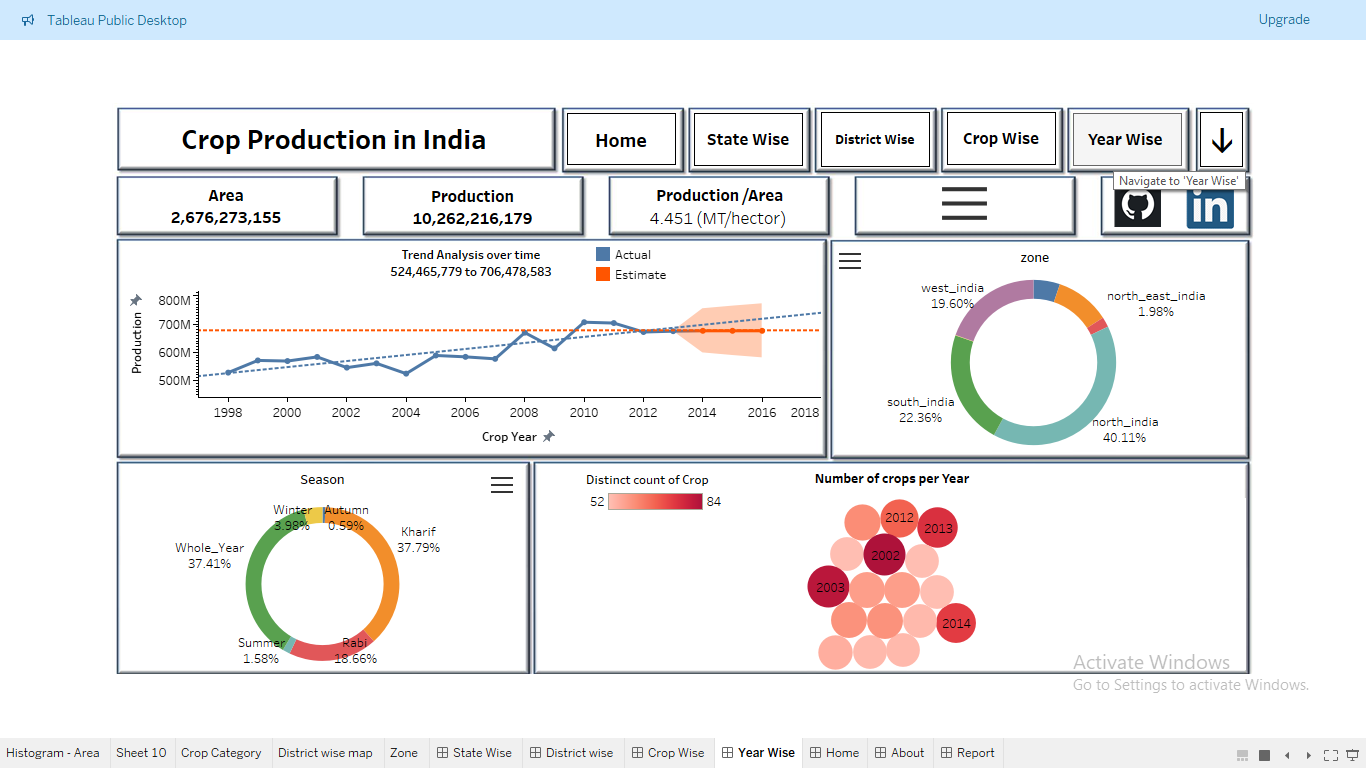

What the dashboard file says about the page in this screenshot:
{"tool":"tableau","page":{"name":"Year Wise","canvas":[1150,600],"ordinal":6},"visuals":[{"type":"image","param":"Image/CPII 5.jpg","box":[0,0,1150,600]},{"type":"text","box":[13,23,426,52]},{"type":"dashboard-object","box":[713,23,109,55]},{"type":"dashboard-object","box":[839,23,109,53]},{"type":"dashboard-object","box":[1092,23,43,55]},{"type":"dashboard-object","box":[459,24,109,52]},{"type":"dashboard-object","box":[586,24,109,53]},{"type":"dashboard-object","box":[965,24,109,53]},{"type":"dashboard-object","box":[979,83,159,52]},{"type":"dashboard-object","box":[751,90,210,49]},{"type":"image","param":"Image/linkedin.png","box":[1067,90,70,50]},{"type":"worksheet","title":"KPI","mark":"Automatic","box":[13,91,210,49]},{"type":"worksheet","title":" Production /Area","mark":"Automatic","box":[505,91,210,49]},{"type":"image","param":"Image/github-6980894_1920.png","box":[1004,91,51,47]},{"type":"worksheet","title":"KPI ","mark":"Automatic","box":[259,92,211,46]},{"type":"dashboard-object","box":[979,135,159,52]},{"type":"filter","title":"YW- Pie chart","param":"[federated.1tu41g31wm18641arbtzr10wprao].[none:Zone:nk]","box":[748,142,219,76]},{"type":"worksheet","title":"YW- Trend analysis over time","mark":"Automatic","rows":["Production"],"cols":["Crop_Year"],"box":[13,153,700,210]},{"type":"legend","title":"YW- Trend analysis over time","param":"[federated.1tu41g31wm18641arbtzr10wprao].[attr:Forecast Indicator:nk]","box":[485,155,97,47]},{"type":"worksheet","title":" zone","mark":"Pie","cols":["Calculation_1207246187134111753","Calculation_1207246187134111753"],"box":[727,155,397,204]},{"type":"dashboard-object","box":[730,160,24,24]},{"type":"legend","title":" zone","param":"[federated.1tu41g31wm18641arbtzr10wprao].[none:Zone:nk]","box":[731,183,140,158]},{"type":"filter","title":"YW- Pie chart","param":"[federated.1tu41g31wm18641arbtzr10wprao].[none:Calculation_311592810542178305:nk","box":[748,218,219,76]},{"type":"filter","title":"YW- Pie chart","param":"[federated.1tu41g31wm18641arbtzr10wprao].[none:Season:nk]","box":[748,294,219,76]},{"type":"filter","title":"YW- Pie chart","param":"[federated.1tu41g31wm18641arbtzr10wprao].[none:Crop_Category:nk]","box":[748,370,219,75]},{"type":"worksheet","title":"YW- Number of crop per year","mark":"Circle","box":[430,376,708,205]},{"type":"worksheet","title":"YW- Pie chart","mark":"Pie","cols":["Calculation_1207246187133673479","Calculation_1207246187133673479"],"box":[13,377,403,203]},{"type":"legend","title":"YW- Number of crop per year","param":"[federated.1tu41g31wm18641arbtzr10wprao].[ctd:Crop:qk]","box":[478,382,140,76]},{"type":"dashboard-object","box":[382,384,24,24]},{"type":"legend","title":"YW- Pie chart","param":"[federated.1tu41g31wm18641arbtzr10wprao].[none:Season:nk]","box":[349,425,140,138]},{"type":"filter","title":"YW- Pie chart","param":"[federated.1tu41g31wm18641arbtzr10wprao].[none:Crop_Year:qk]","box":[748,445,219,75]},{"type":"filter","title":"YW- Pie chart","param":"[federated.1tu41g31wm18641arbtzr10wprao].[none:Crop:nk]","box":[748,520,219,75]}]}

Visuals, with their boxes on the page's 1150x600 design canvas (x1, y1, x2, y2). These are canvas units, not pixel positions in the 1366x768 screenshot, which may show the page scaled, cropped or inside an application window:
image: 0,0,1150,600
text: 13,23,439,75
dashboard-object: 713,23,822,78
dashboard-object: 839,23,948,76
dashboard-object: 1092,23,1135,78
dashboard-object: 459,24,568,76
dashboard-object: 586,24,695,77
dashboard-object: 965,24,1074,77
dashboard-object: 979,83,1138,135
dashboard-object: 751,90,961,139
image: 1067,90,1137,140
"KPI" worksheet: 13,91,223,140
" Production /Area" worksheet: 505,91,715,140
image: 1004,91,1055,138
"KPI " worksheet: 259,92,470,138
dashboard-object: 979,135,1138,187
"YW- Pie chart" filter: 748,142,967,218
"YW- Trend analysis over time" worksheet: 13,153,713,363
"YW- Trend analysis over time" legend: 485,155,582,202
" zone" worksheet (Pie marks): 727,155,1124,359
dashboard-object: 730,160,754,184
" zone" legend: 731,183,871,341
"YW- Pie chart" filter: 748,218,967,294
"YW- Pie chart" filter: 748,294,967,370
"YW- Pie chart" filter: 748,370,967,445
"YW- Number of crop per year" worksheet (Circle marks): 430,376,1138,581
"YW- Pie chart" worksheet (Pie marks): 13,377,416,580
"YW- Number of crop per year" legend: 478,382,618,458
dashboard-object: 382,384,406,408
"YW- Pie chart" legend: 349,425,489,563
"YW- Pie chart" filter: 748,445,967,520
"YW- Pie chart" filter: 748,520,967,595
